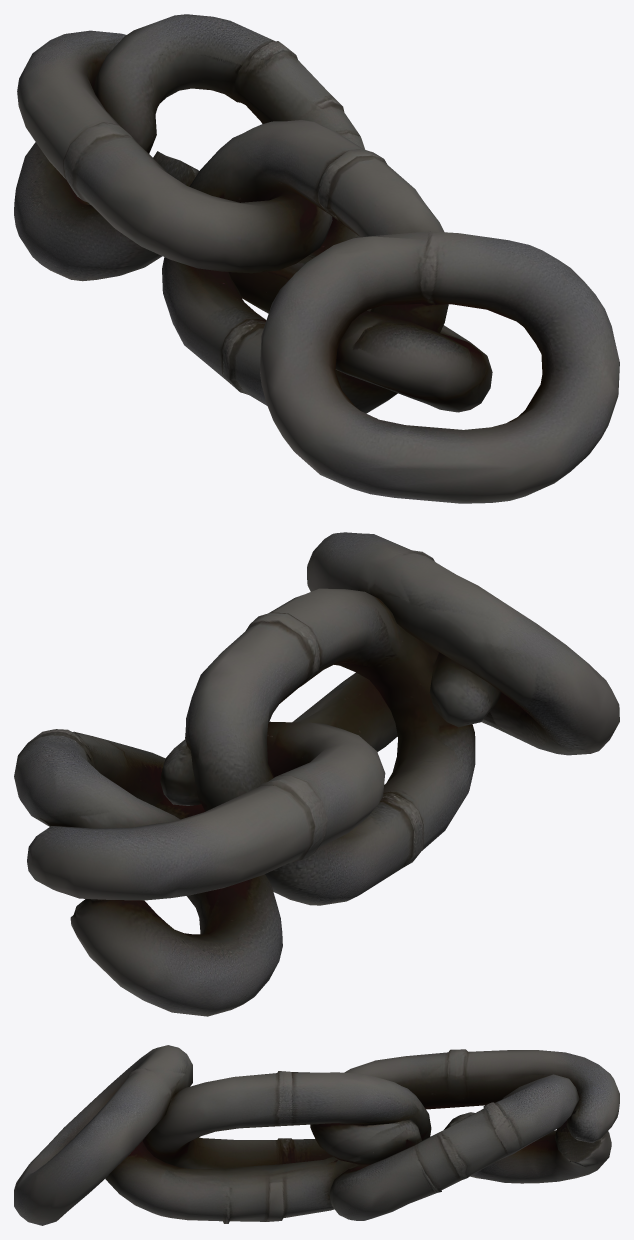
File: chain.glb
The picture shows the model from 3 angles, top to bottom: view 1: azimuth 30°, elevation 25°; view 2: azimuth 150°, elevation 25°; view 3: azimuth 270°, elevation 25°; orthographic projection. The views are drawn at different scales.
Visible parts, largest first — view 1: tripo_node_ea75a371-5c5d-4db3-8d7d-202d40a59fdc; view 2: tripo_node_ea75a371-5c5d-4db3-8d7d-202d40a59fdc; view 3: tripo_node_ea75a371-5c5d-4db3-8d7d-202d40a59fdc.
Boxes of the visible parts, <box> form: tripo_node_ea75a371-5c5d-4db3-8d7d-202d40a59fdc: <box>14,14,619,503</box>; tripo_node_ea75a371-5c5d-4db3-8d7d-202d40a59fdc: <box>14,532,619,1016</box>; tripo_node_ea75a371-5c5d-4db3-8d7d-202d40a59fdc: <box>14,1045,619,1225</box>.
Size of the model in its own units: 0.6544 by 0.4415 by 1.6.
1 material, 1 textured.
